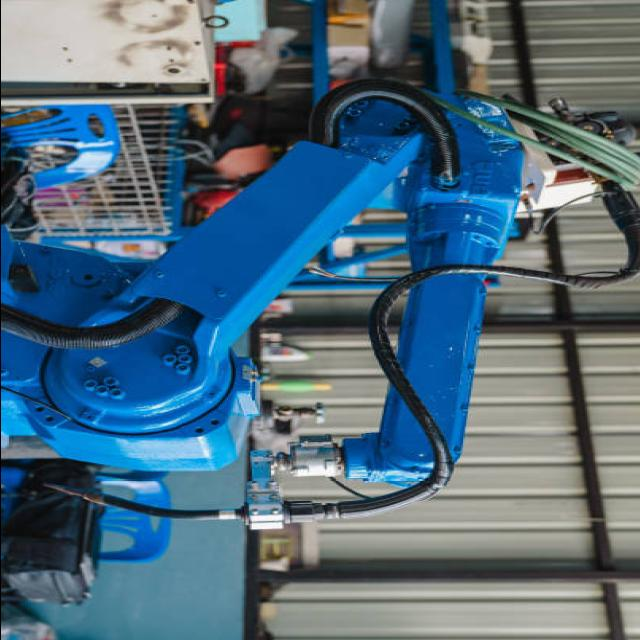Robotic-arm: (0, 78, 527, 500)
